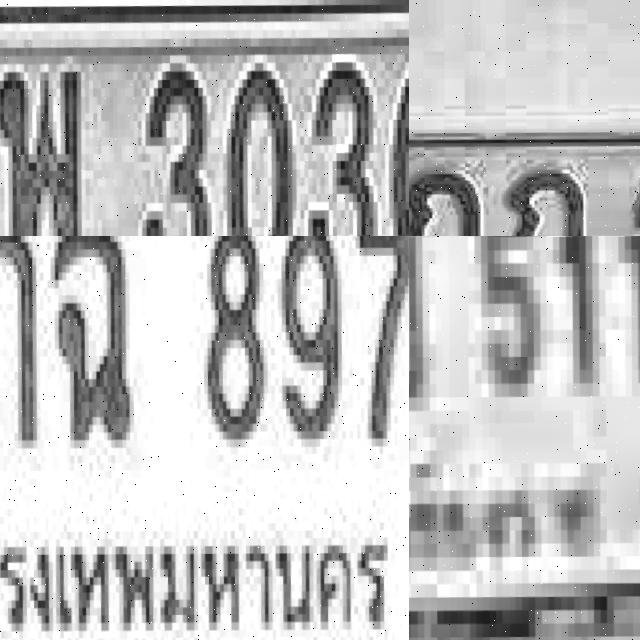license-plate: (0, 236, 409, 640), (0, 0, 409, 236), (409, 236, 640, 640), (409, 79, 640, 236)
